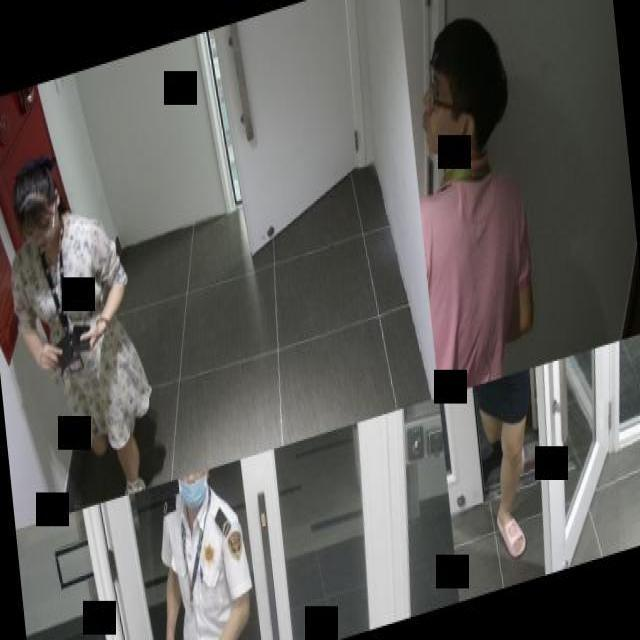hairnet: (178, 469, 210, 512)
